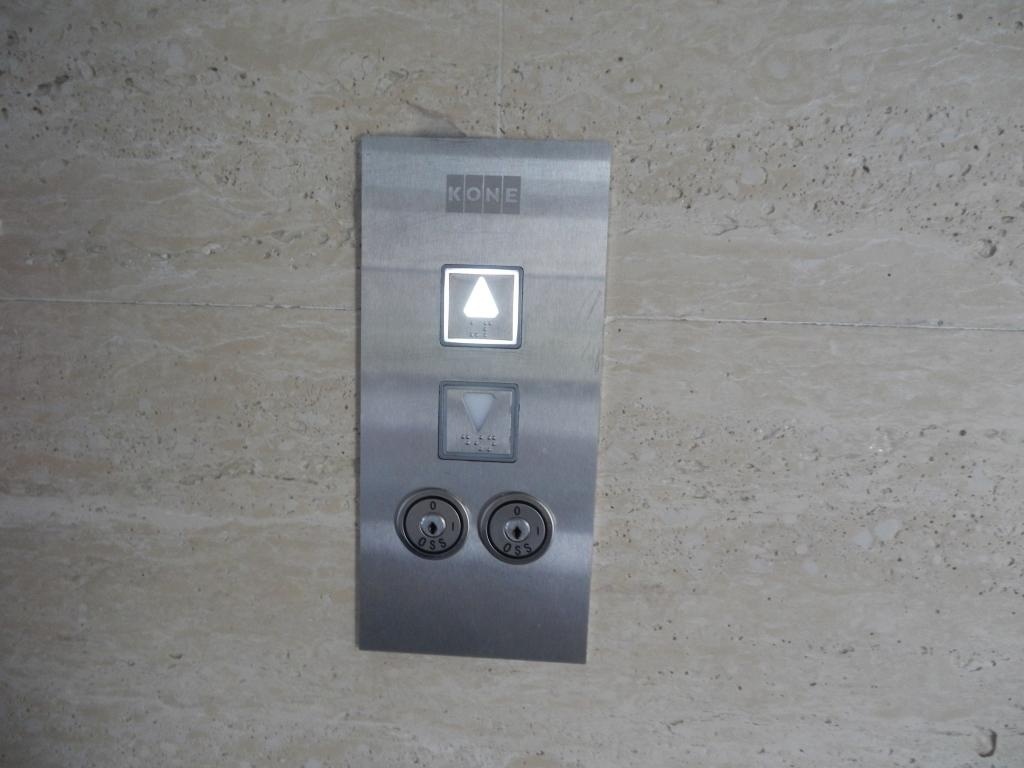down: (432, 379, 521, 469)
keyhole: (477, 488, 559, 563), (394, 488, 469, 561)
up: (437, 260, 526, 352)
